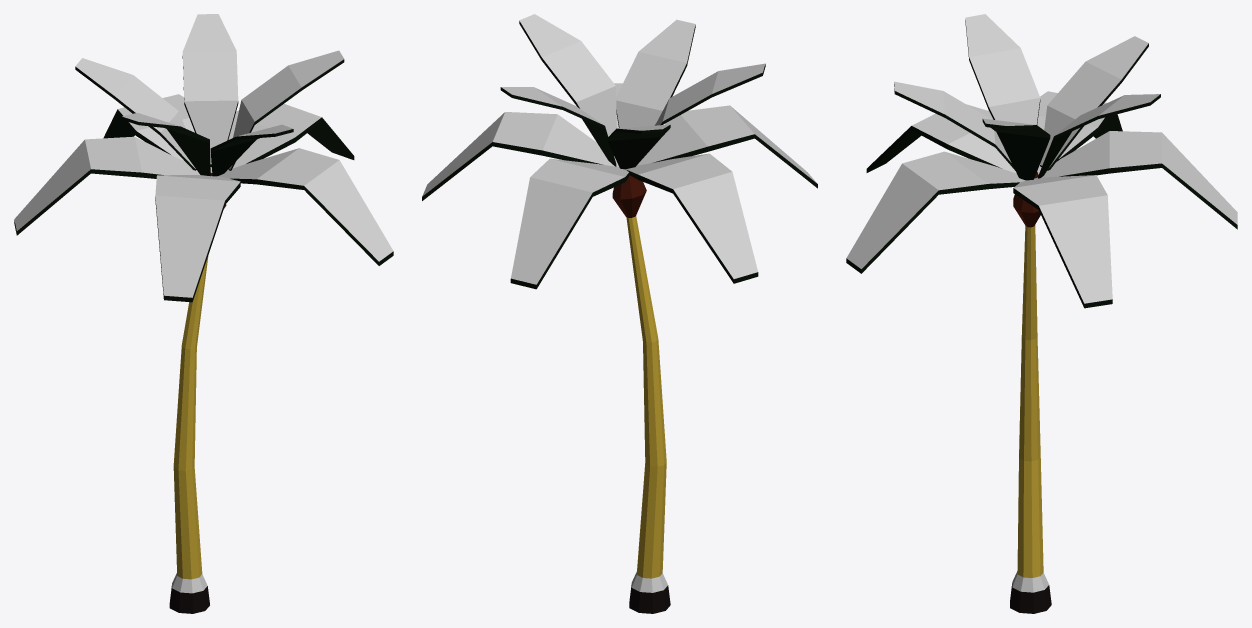
File: Palm_Tree_Winter.obj
The picture shows the model from 3 angles, left to right: view 1: azimuth 30°, elevation 25°; view 2: azimuth 150°, elevation 25°; view 3: azimuth 270°, elevation 25°; orthographic projection. The views are drawn at different scales.
Visible parts, largest first — view 1: Palm_Tree_Winter_Cylinder.039; view 2: Palm_Tree_Winter_Cylinder.039; view 3: Palm_Tree_Winter_Cylinder.039.
Part boxes in pixels (left/top/right/bottom): Palm_Tree_Winter_Cylinder.039: left=14, top=14, right=393, bottom=613; Palm_Tree_Winter_Cylinder.039: left=422, top=14, right=817, bottom=613; Palm_Tree_Winter_Cylinder.039: left=846, top=14, right=1237, bottom=613.
Bounding box in the file's own units: 3.59 × 5.49 × 3.55.
